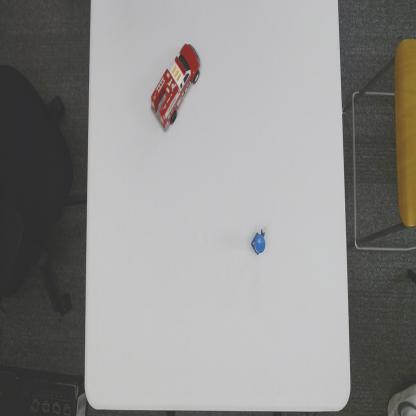Firetruck: (150, 39, 202, 132)
